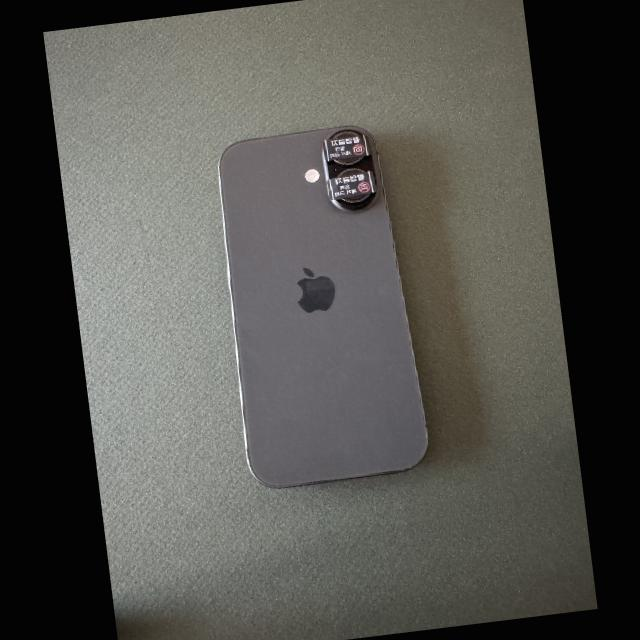lens: (334, 156, 363, 165), (341, 194, 369, 202)
phone: (218, 125, 429, 487)
sticker: (327, 170, 376, 200), (322, 134, 371, 161)
